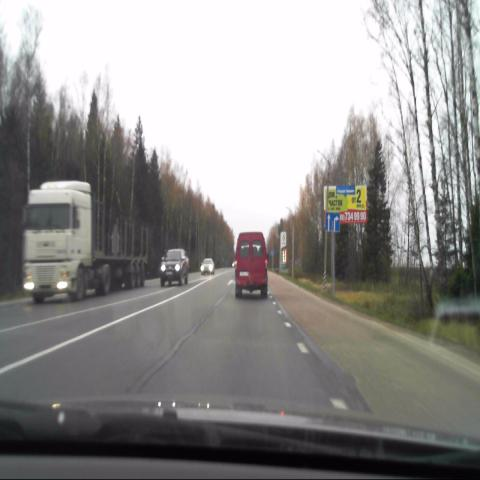5_15_2_2: (325, 211, 341, 232)
